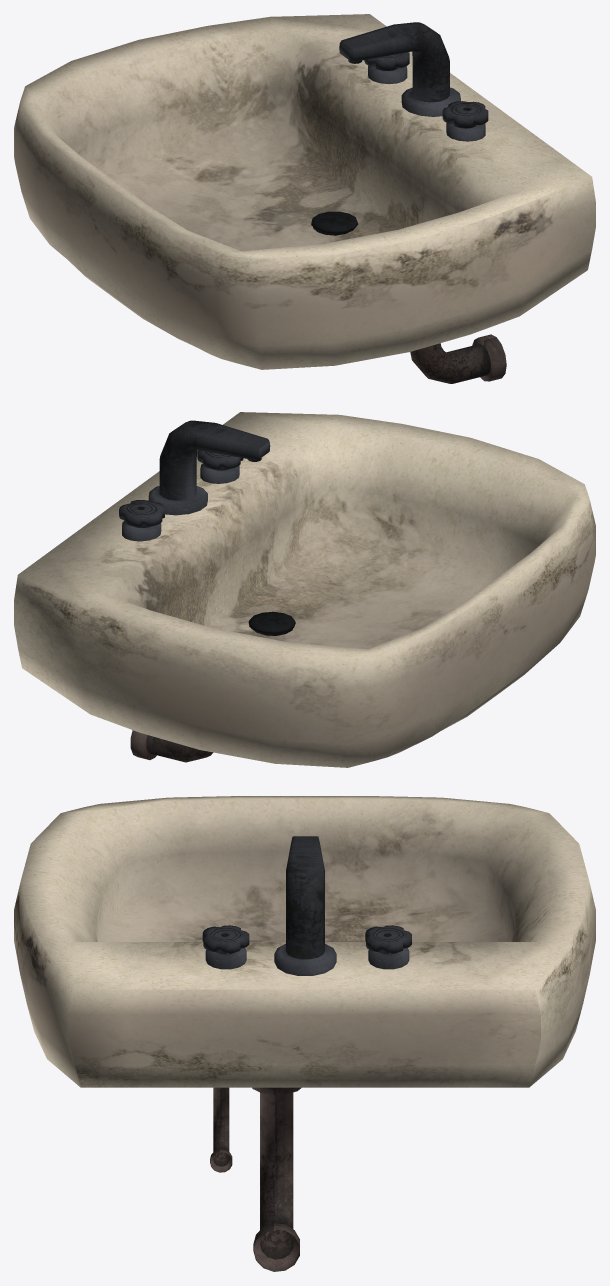
Rendered from FPH_Washbasin.fbx.
3 views of the same model, one above another, from view 1: azimuth 30°, elevation 25°; view 2: azimuth 150°, elevation 25°; view 3: azimuth 270°, elevation 25° (orthographic). The views are drawn at different scales.
Parts seen in each view (by area): view 1: FPH_Washbasin; view 2: FPH_Washbasin; view 3: FPH_Washbasin.
Part boxes in pixels (bbox=[...]): FPH_Washbasin: bbox=[14, 14, 595, 383]; FPH_Washbasin: bbox=[14, 412, 595, 767]; FPH_Washbasin: bbox=[14, 796, 595, 1271].
Bounding box in the file's own units: 2.88 × 2.57 × 3.67.
Materials: 1 (1 with a texture image).
